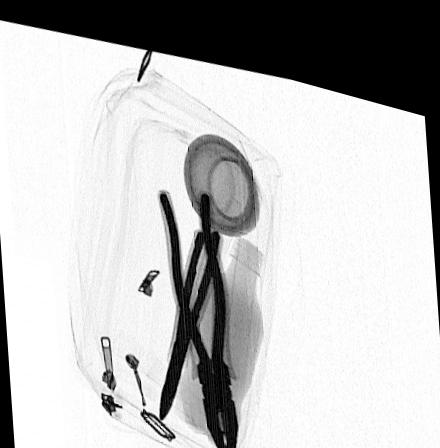Pliers: (157, 176, 240, 448), (158, 214, 224, 412)
